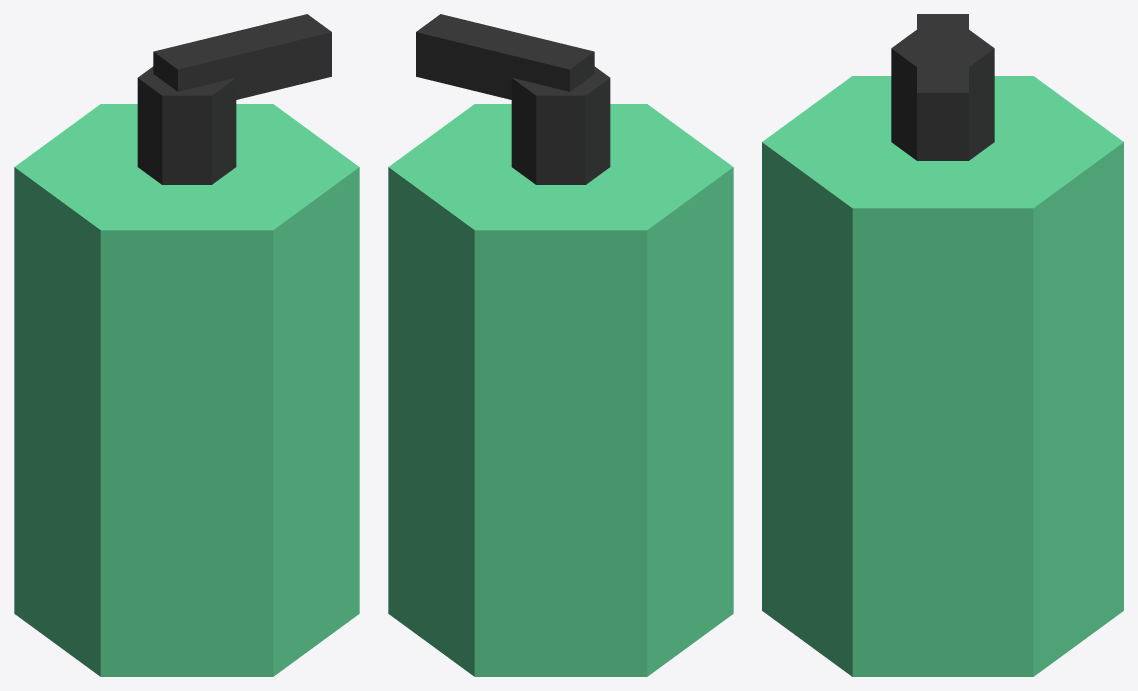
Rendered from HandSoap.glb.
The picture shows the model from 3 angles, left to right: view 1: azimuth 30°, elevation 25°; view 2: azimuth 150°, elevation 25°; view 3: azimuth 270°, elevation 25°; orthographic projection. The views are drawn at different scales.
Parts seen in each view (by area): view 1: Cylinder, Cube, Cylinder.001; view 2: Cylinder, Cube, Cylinder.001; view 3: Cylinder, Cylinder.001, Cube.
Boxes of the visible parts, box(x1,y1,x2,y2) form: Cylinder: box(14, 104, 359, 676); Cube: box(153, 14, 331, 99); Cylinder.001: box(137, 66, 236, 184); Cylinder: box(388, 104, 733, 676); Cube: box(416, 14, 594, 99); Cylinder.001: box(511, 66, 610, 184); Cylinder: box(762, 76, 1123, 676); Cylinder.001: box(891, 30, 994, 160); Cube: box(917, 14, 968, 139).
Size of the model in its own units: 0.1228 by 0.25 by 0.14.
